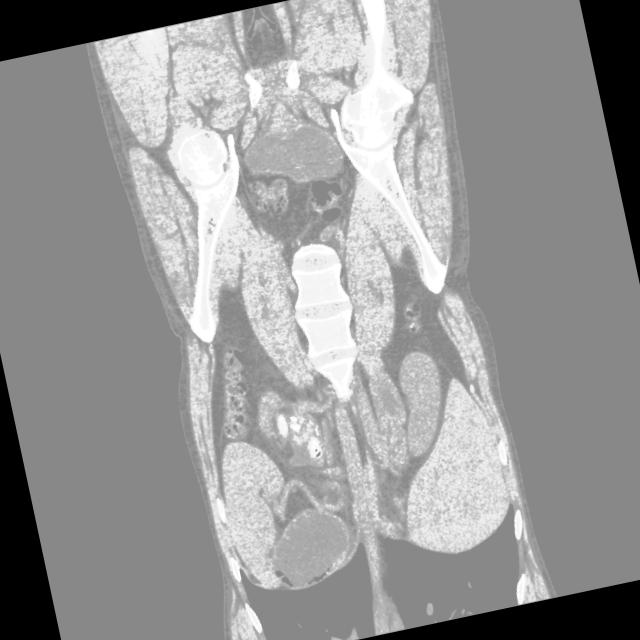STONE: (108, 118, 566, 536)
